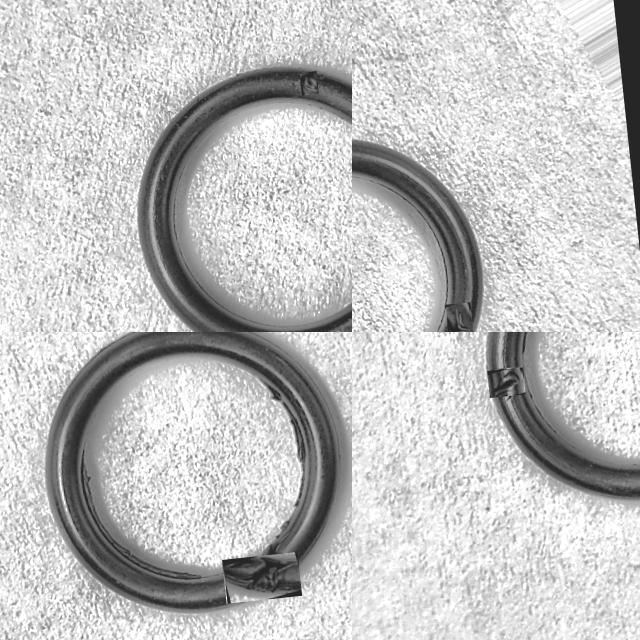切割缺陷: (225, 555, 299, 594), (489, 368, 522, 397), (261, 541, 293, 566), (451, 304, 472, 332), (301, 71, 318, 93)
裂纹: (81, 460, 201, 579), (255, 374, 304, 506), (275, 519, 289, 537), (630, 463, 638, 465)
